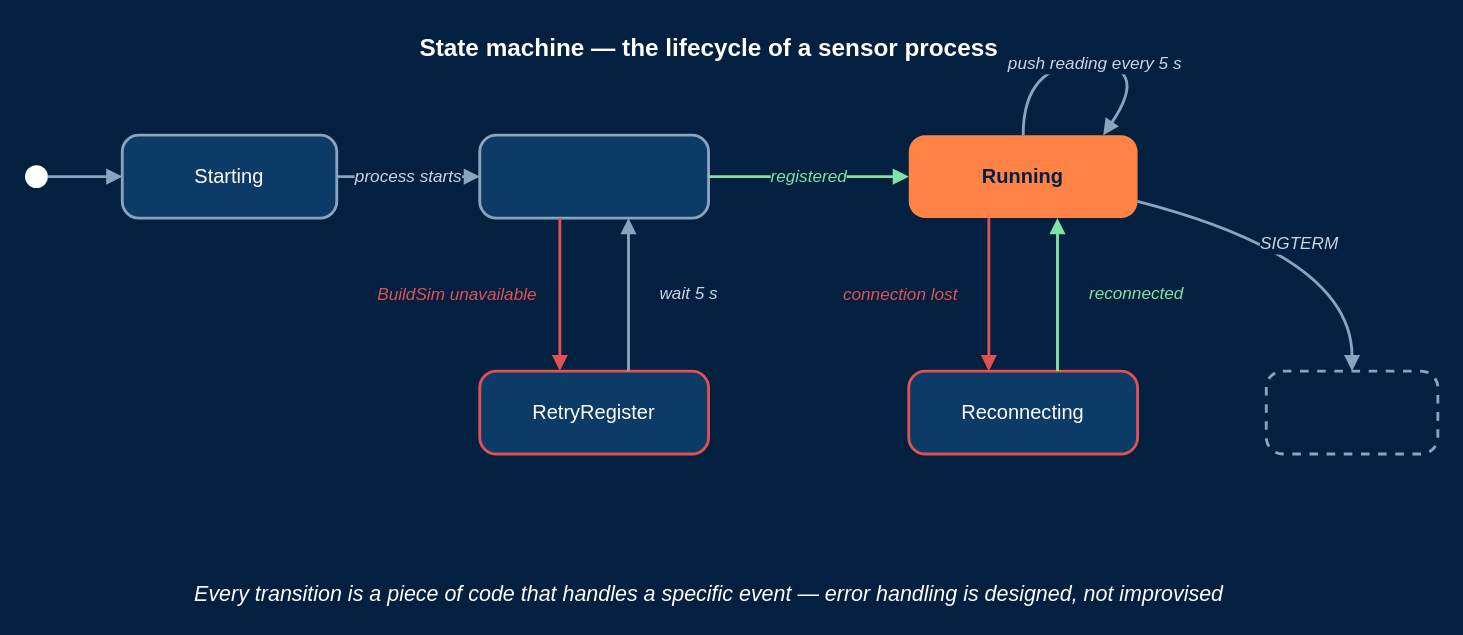
Image size: 1463x635. Some labels were removed from this diagram. The centre of each missing label's shape, as x and y in pixels:
"Registering" goes at (593,176).
"Stopped" goes at (1351,412).
